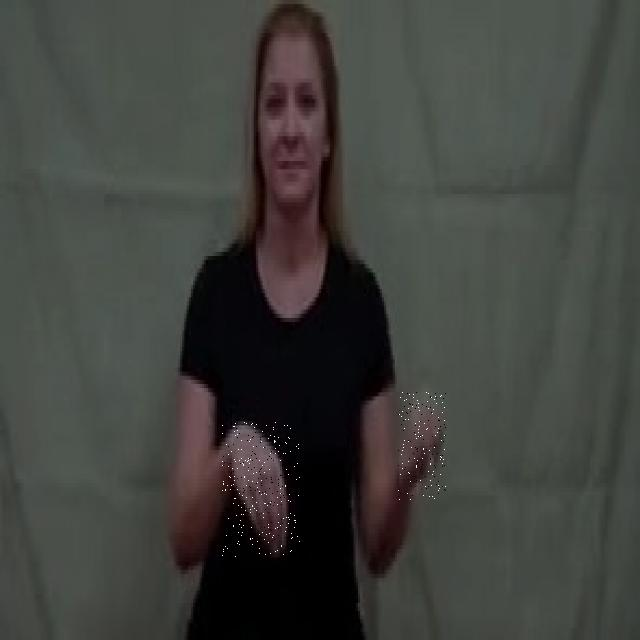ingredients: (222, 422, 300, 559), (398, 392, 446, 500)
